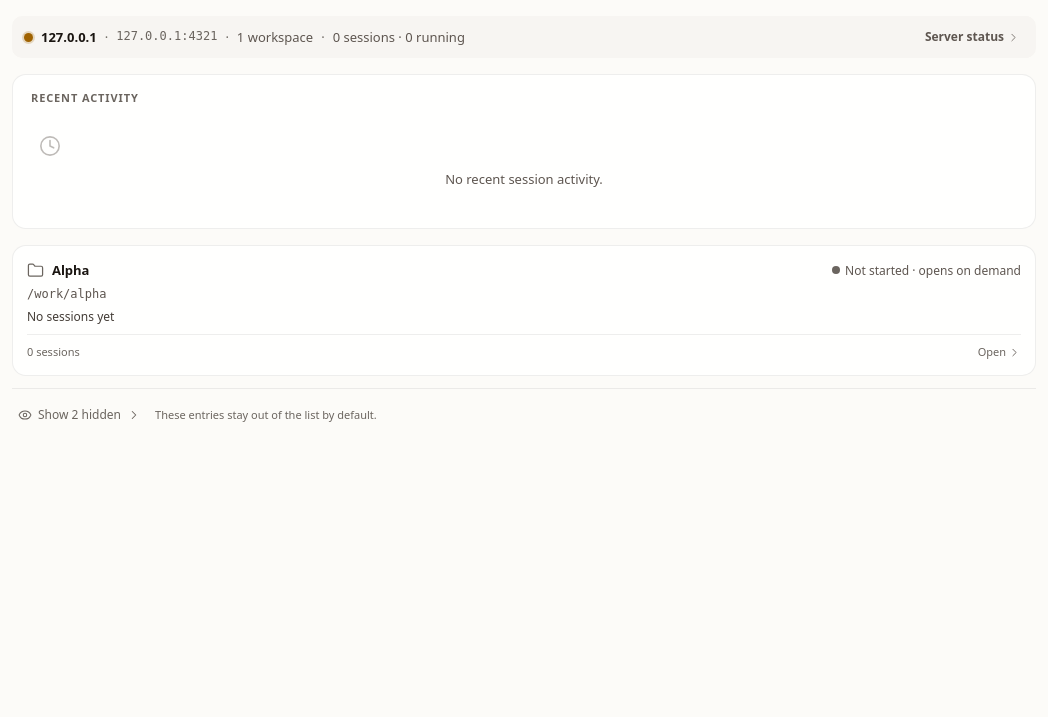
WorkspacesPage secondary rows › reveals dimmed secondary rows with a reason badge on toggle
Expected: the number of links with test id "workspace-row" is 1, [12,245,1036,376]
Click the button with test id "workspaces-show-all": x=80, y=415 [12,401,147,429]
(page scrolled)
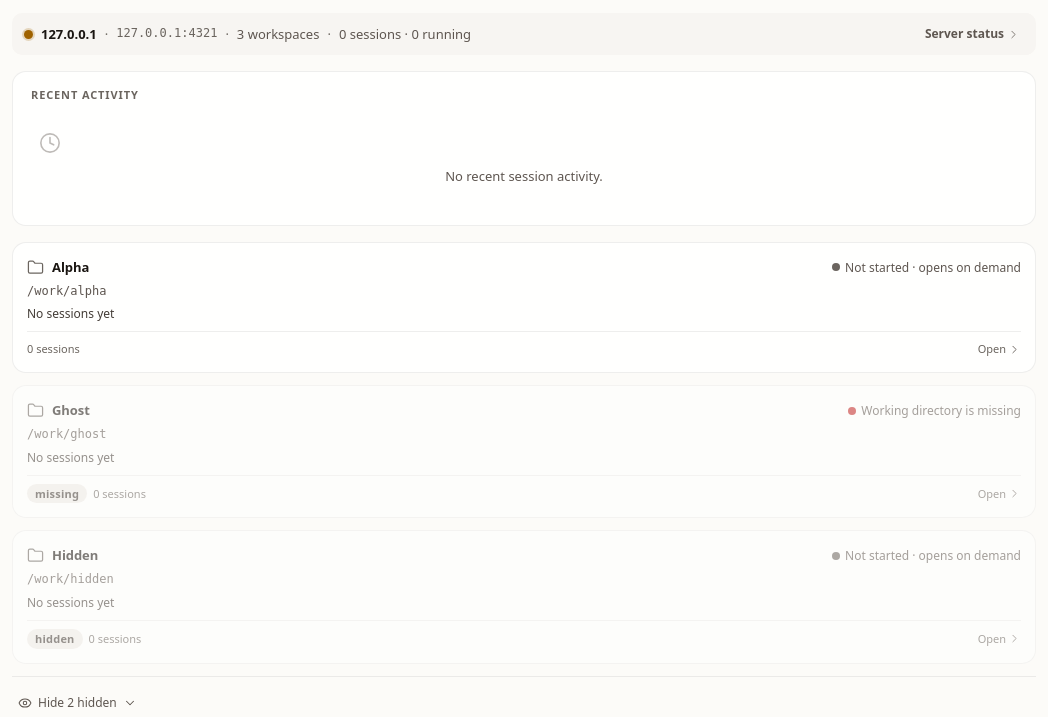
Expected: the text "Ghost" is shown, [52,401,90,419]
Expected: the text "Hidden" is shown, [52,546,98,564]
Expected: the text with test id "workspace-reason" reads "missing", [35,486,79,501]
Click the button with test id "workspaces-show-all": x=77, y=703 [12,689,143,716]
(page scrolled)
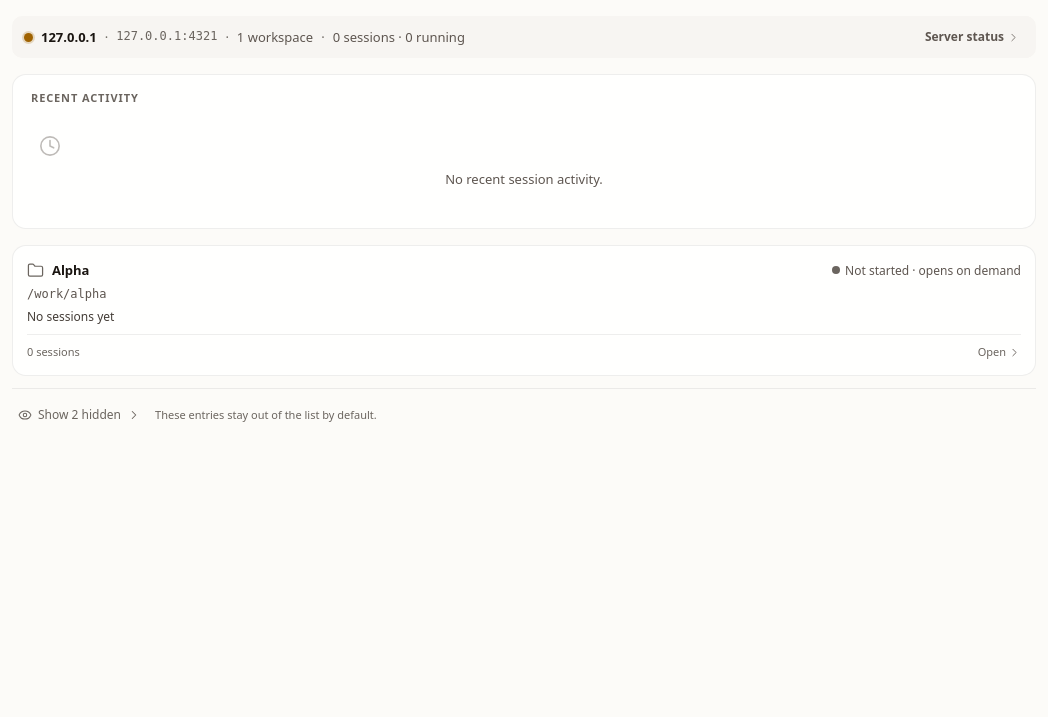
Expected: the link "Ghost" is gone
